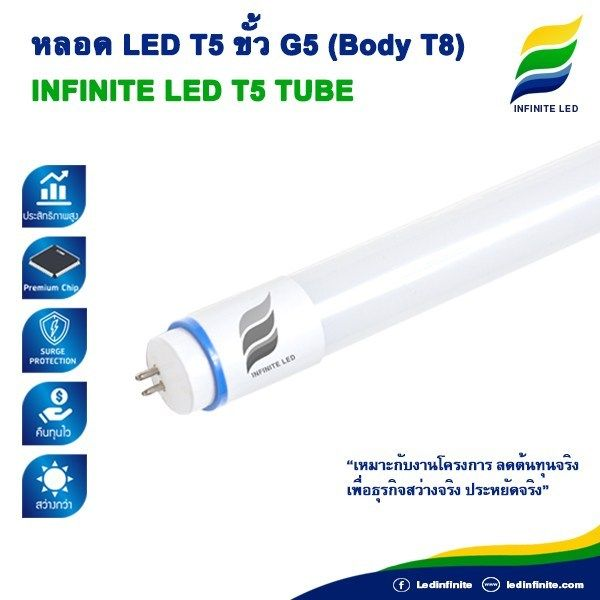Light_bulb: (130, 131, 600, 423)
